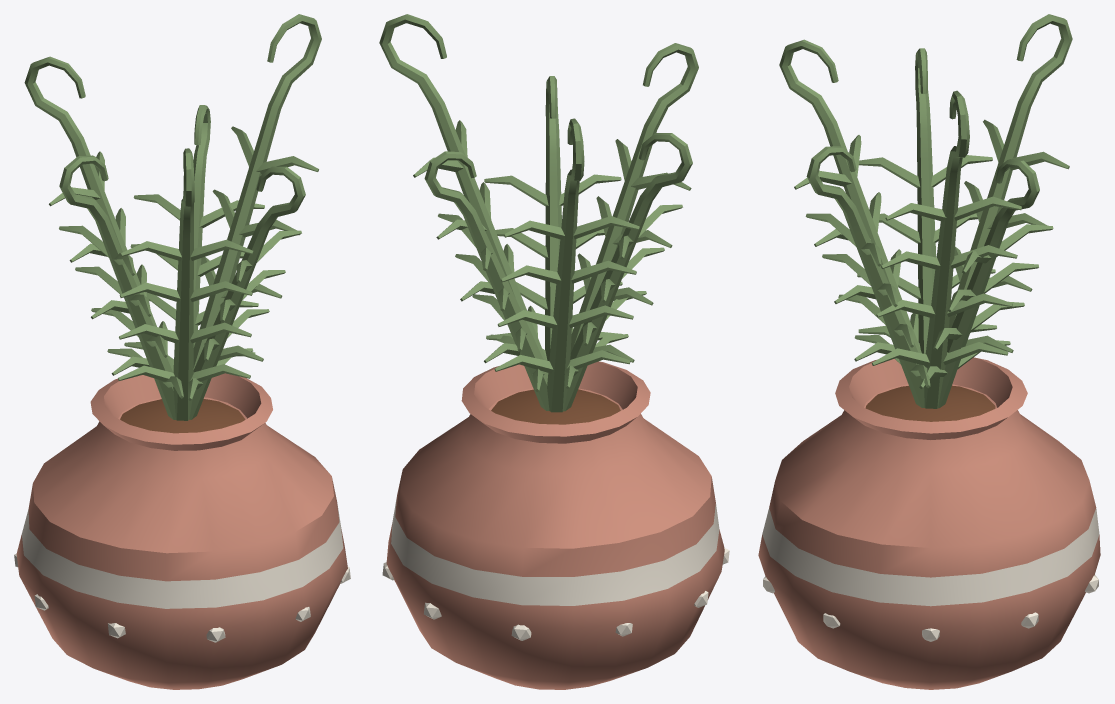
Rendered from deco_plant_pot_fern.fbx.
The picture shows the model from 3 angles, left to right: view 1: azimuth 30°, elevation 25°; view 2: azimuth 150°, elevation 25°; view 3: azimuth 270°, elevation 25°; orthographic projection. The views are drawn at different scales.
Parts seen in each view (by area): view 1: PlantPot_Fern_Pot, PlantPot_Fern_Plant; view 2: PlantPot_Fern_Pot, PlantPot_Fern_Plant; view 3: PlantPot_Fern_Pot, PlantPot_Fern_Plant.
Part boxes in pixels (<box>): PlantPot_Fern_Pot: <box>14,373,350,689</box>; PlantPot_Fern_Plant: <box>24,14,321,433</box>; PlantPot_Fern_Pot: <box>382,361,729,689</box>; PlantPot_Fern_Plant: <box>379,14,698,424</box>; PlantPot_Fern_Pot: <box>758,357,1100,689</box>; PlantPot_Fern_Plant: <box>779,14,1072,421</box>.
Size of the model in its own units: 68.51 by 131 by 64.69.
